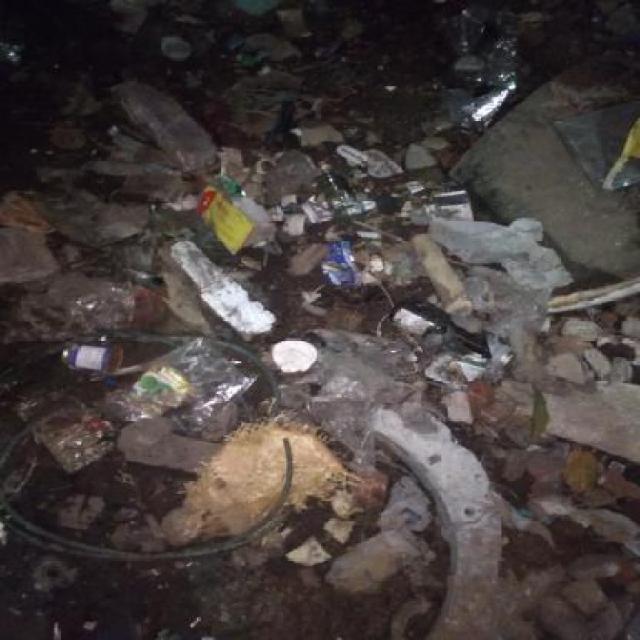garbage: (0, 95, 485, 391), (8, 402, 611, 631), (129, 0, 640, 97), (485, 234, 625, 406)
